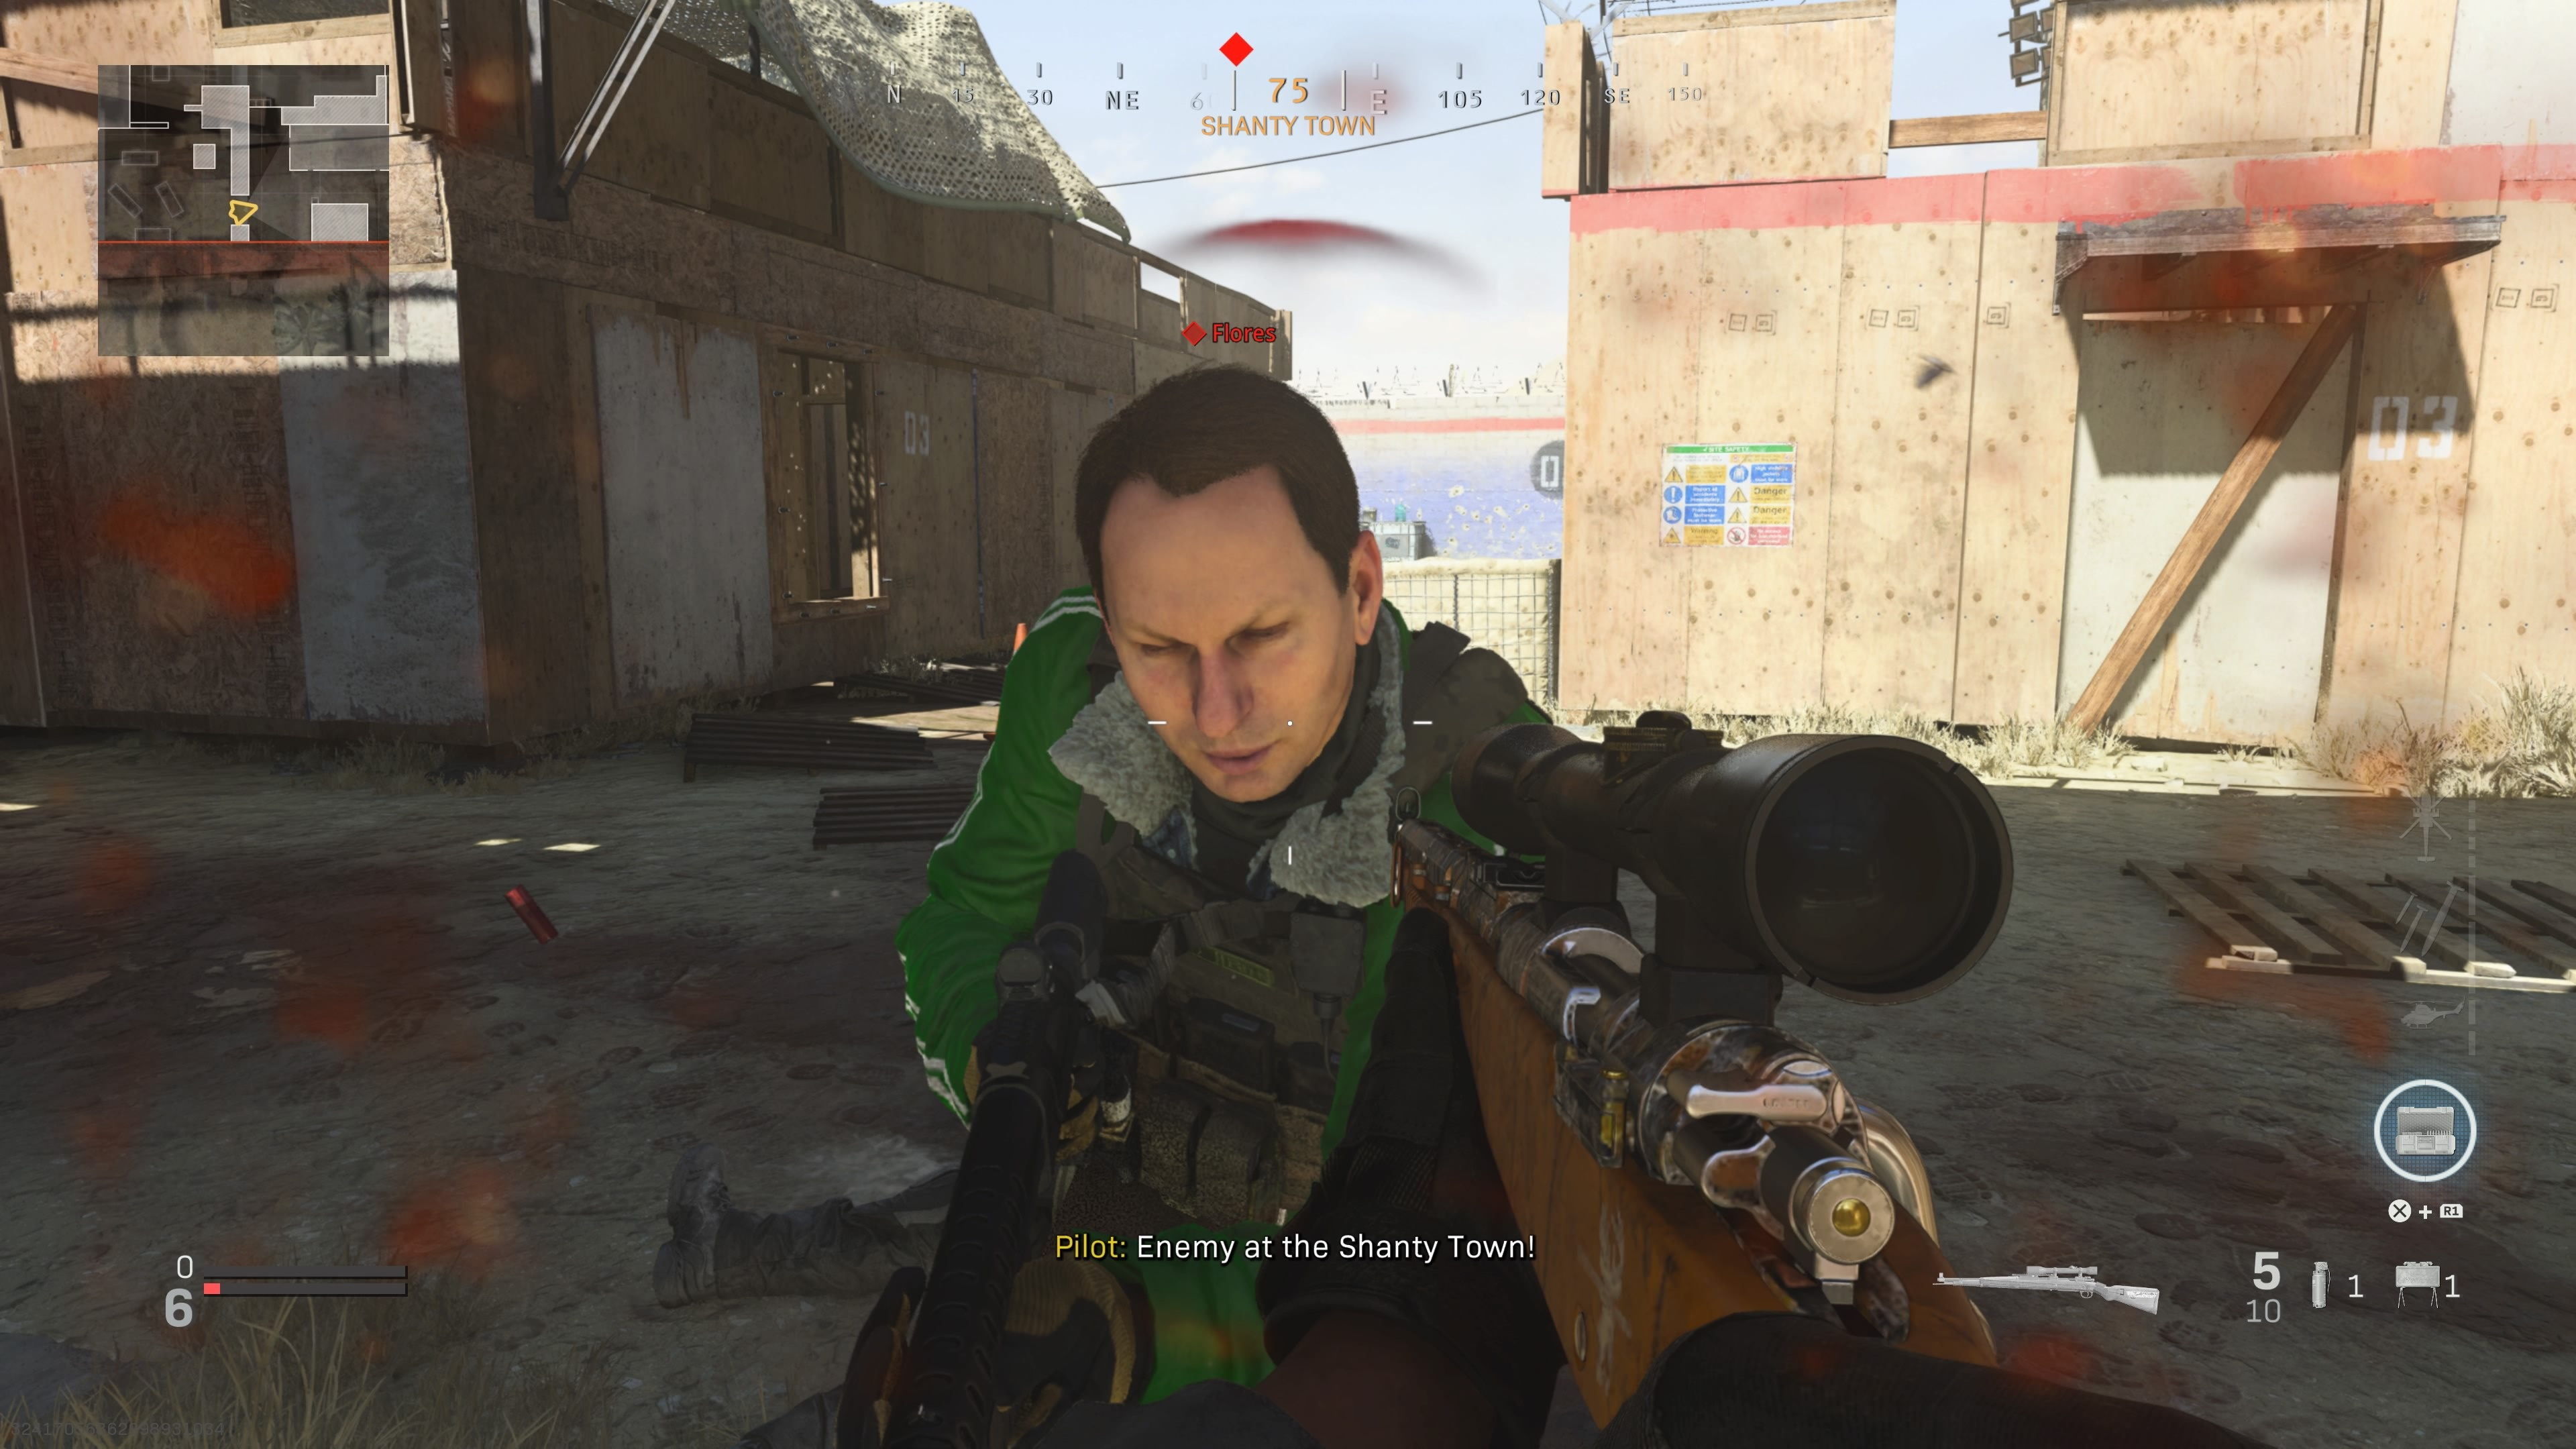head: (1058, 353, 1399, 822)
person: (860, 333, 1562, 1449)
